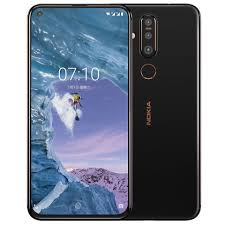nokia: (25, 3, 132, 222), (128, 3, 200, 223)
